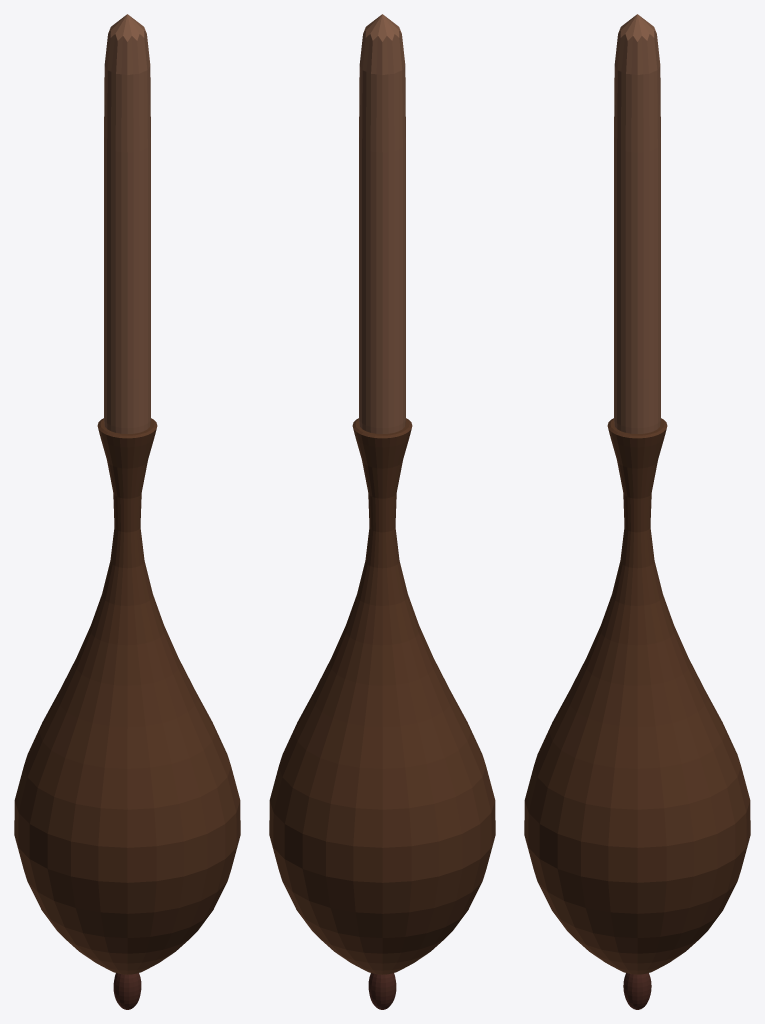
The model's file is Wand 916.glb.
The picture shows the model from 3 angles, left to right: view 1: azimuth 30°, elevation 25°; view 2: azimuth 150°, elevation 25°; view 3: azimuth 270°, elevation 25°; orthographic projection.
Visible parts, largest first — view 1: GeneratedWand; view 2: GeneratedWand; view 3: GeneratedWand.
Boxes of the visible parts, x1,y1,x2,y2 form: GeneratedWand: (14,14,240,1009); GeneratedWand: (269,14,495,1009); GeneratedWand: (524,14,750,1009).
Size of the model in its own units: 0.1026 by 0.4978 by 0.1026.
